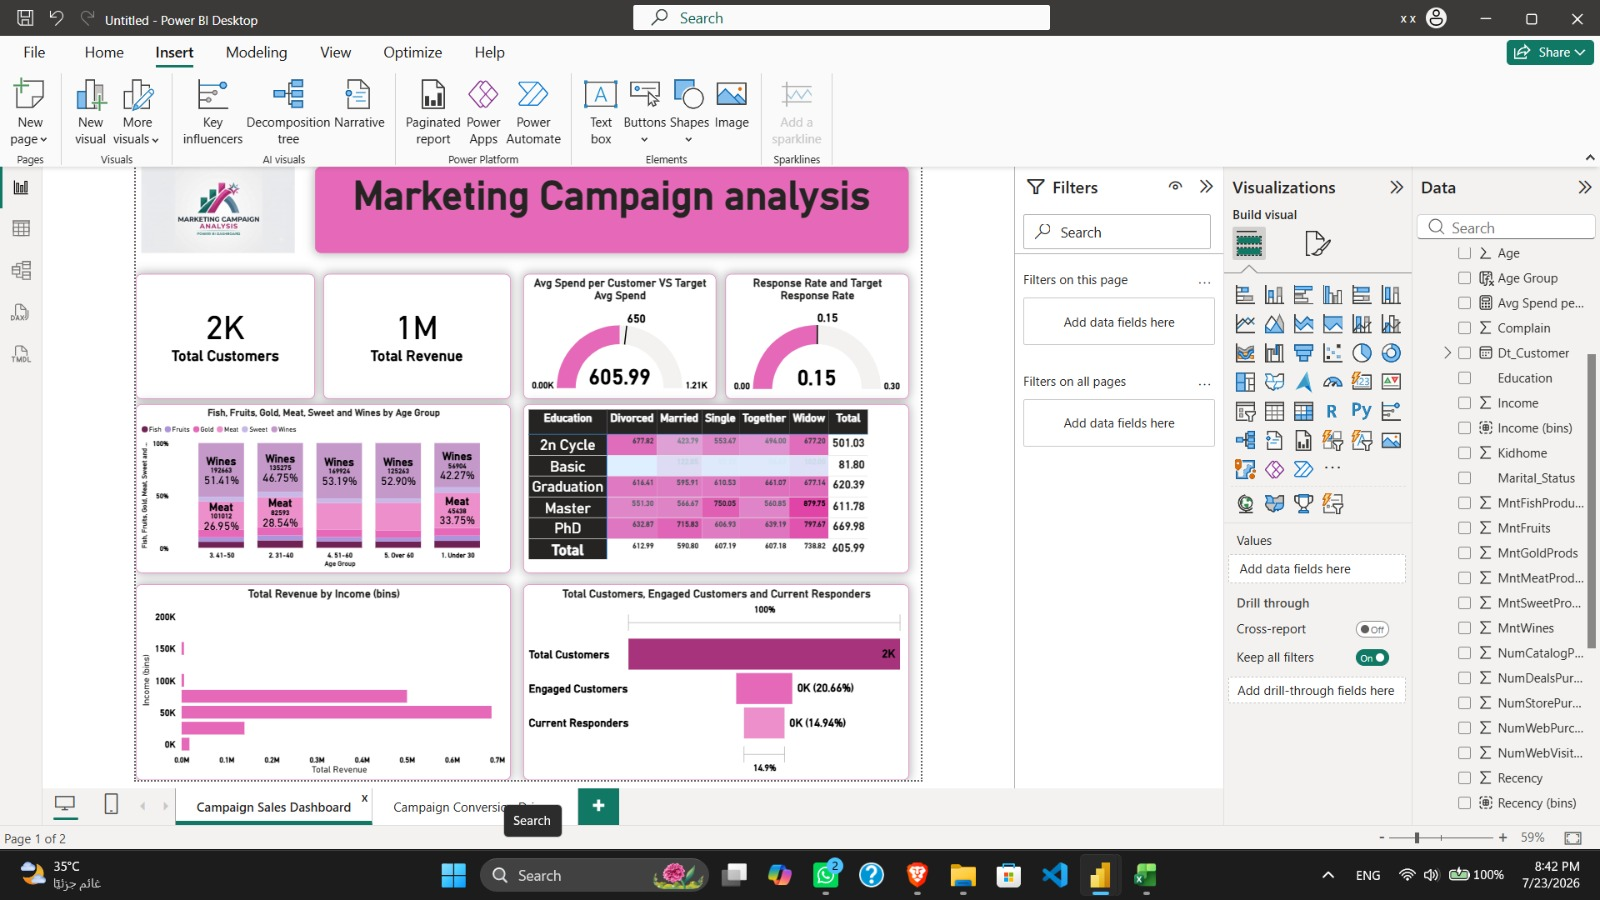

The dashboard page shown, as its layout file describes it:
{"tool":"powerbi","page":{"name":"Campaign  Sales Dashboard","canvas":[1280,1000],"ordinal":0},"visuals":[{"type":"gauge","fields":{"Y":["marketing_campaign_cleaned.Response Rate"],"TargetValue":["marketing_campaign_cleaned.Target Response Rate"]},"box":[961.3,174.9,298.9,203.8],"z":0},{"type":"gauge","title":"Avg Spend per Customer VS Target Avg Spend","fields":{"TargetValue":["marketing_campaign_cleaned.Target Avg Spend"],"Y":["marketing_campaign_cleaned.Avg Spend per Customer"]},"box":[631.8,174.9,314.2,203.8],"z":1000},{"type":"cardVisual","fields":{"Data":["marketing_campaign_cleaned.Total Revenue"]},"box":[305.7,174.9,305.7,203.8],"z":2000},{"type":"cardVisual","fields":{"Data":["marketing_campaign_cleaned.Total Customers"]},"box":[0,174.9,292.1,203.8],"z":3000},{"type":"pivotTable","fields":{"Rows":["marketing_campaign_cleaned.Education"],"Columns":["marketing_campaign_cleaned.Marital_Status"],"Values":["marketing_campaign_cleaned.Avg Spend per Customer"]},"box":[631.8,387.2,628.4,275.1],"z":4000},{"type":"hundredPercentStackedColumnChart","fields":{"Category":["marketing_campaign_cleaned.Age Group"],"Y":["Sum(marketing_campaign_cleaned.MntFishProducts)","Sum(marketing_campaign_cleaned.MntFruits)","Sum(marketing_campaign_cleaned.MntGoldProds)","Sum(marketing_campaign_cleaned.MntMeatProducts)","Sum(marketing_campaign_cleaned.MntSweetProducts)","Sum(marketing_campaign_cleaned.MntWines)"]},"box":[0,387.2,611.4,275.1],"z":5000},{"type":"funnel","title":"Total Customers, Engaged Customers and Current Responders","fields":{"Y":["marketing_campaign_cleaned.Total Customers","marketing_campaign_cleaned.2_Engaged Customers","marketing_campaign_cleaned.3_Current Responders"]},"box":[631.8,681,628.4,319.3],"z":6000},{"type":"clusteredBarChart","fields":{"Category":["marketing_campaign_cleaned.Income (bins)"],"Y":["marketing_campaign_cleaned.Total Revenue"]},"box":[0,681,611.4,319.3],"z":7000},{"type":"textbox","box":[292.1,0,968.1,141],"z":8000},{"type":"image","box":[0,0,268.3,141],"z":9000}]}

Visuals, with their boxes on the page's 1280x1000 design canvas (x1, y1, x2, y2). These are canvas units, not pixel positions in the 1600x900 screenshot, which may show the page scaled, cropped or inside an application window:
gauge - marketing_campaign_cleaned.Response Rate x marketing_campaign_cleaned.Target Response Rate: <box>961,175,1260,379</box>
"Avg Spend per Customer VS Target Avg Spend" gauge: <box>632,175,946,379</box>
cardVisual - marketing_campaign_cleaned.Total Revenue: <box>306,175,611,379</box>
cardVisual - marketing_campaign_cleaned.Total Customers: <box>0,175,292,379</box>
pivotTable - marketing_campaign_cleaned.Education x marketing_campaign_cleaned.Marital_Status: <box>632,387,1260,662</box>
hundredPercentStackedColumnChart - marketing_campaign_cleaned.Age Group x Sum(marketing_campaign_cleaned.MntFishProducts): <box>0,387,611,662</box>
"Total Customers, Engaged Customers and Current Responders" funnel: <box>632,681,1260,1000</box>
clusteredBarChart - marketing_campaign_cleaned.Income (bins) x marketing_campaign_cleaned.Total Revenue: <box>0,681,611,1000</box>
textbox: <box>292,0,1260,141</box>
image: <box>0,0,268,141</box>
